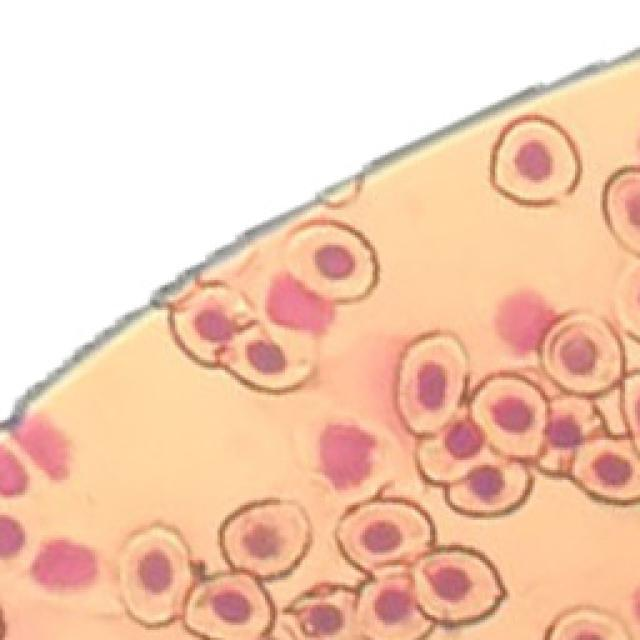RBC: (491, 115, 581, 204), (282, 220, 379, 301), (169, 281, 255, 366), (120, 525, 192, 626), (220, 500, 310, 579), (412, 548, 505, 624), (336, 500, 434, 572), (398, 334, 468, 434), (541, 312, 622, 394), (220, 322, 316, 391), (471, 374, 548, 459), (184, 572, 274, 640), (418, 417, 502, 484), (539, 396, 604, 473), (358, 575, 432, 640), (446, 461, 531, 516), (572, 439, 640, 502), (289, 584, 356, 640), (602, 166, 640, 254), (546, 609, 630, 640)
WBC: (266, 272, 332, 332), (495, 290, 556, 354), (320, 424, 376, 488), (14, 414, 69, 479), (32, 540, 98, 589), (0, 445, 28, 496), (0, 516, 24, 556)
